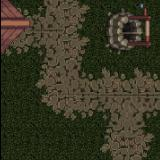Hide: (91, 0, 160, 71)
